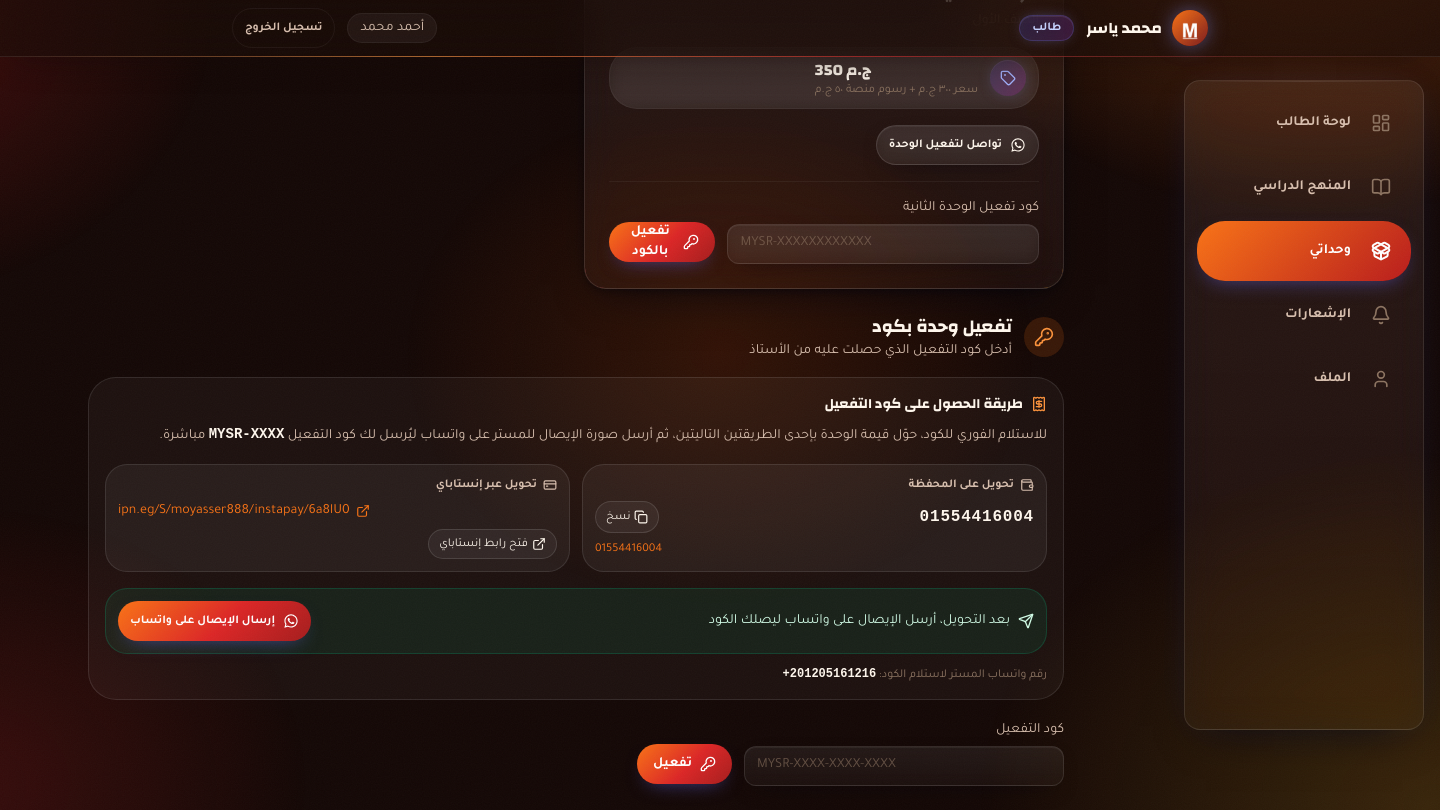
UnitsPage › rejects redeeming a code for a draft unit
(page scrolled)
Type "MYSR-ABCD-EFGH-JKLM" into the field labelled "كود التفعيل".
click(904, 766); type("MYSR-ABCD-EFGH-JKLM")  # box top-left (744, 746), bottom-right (1064, 786)
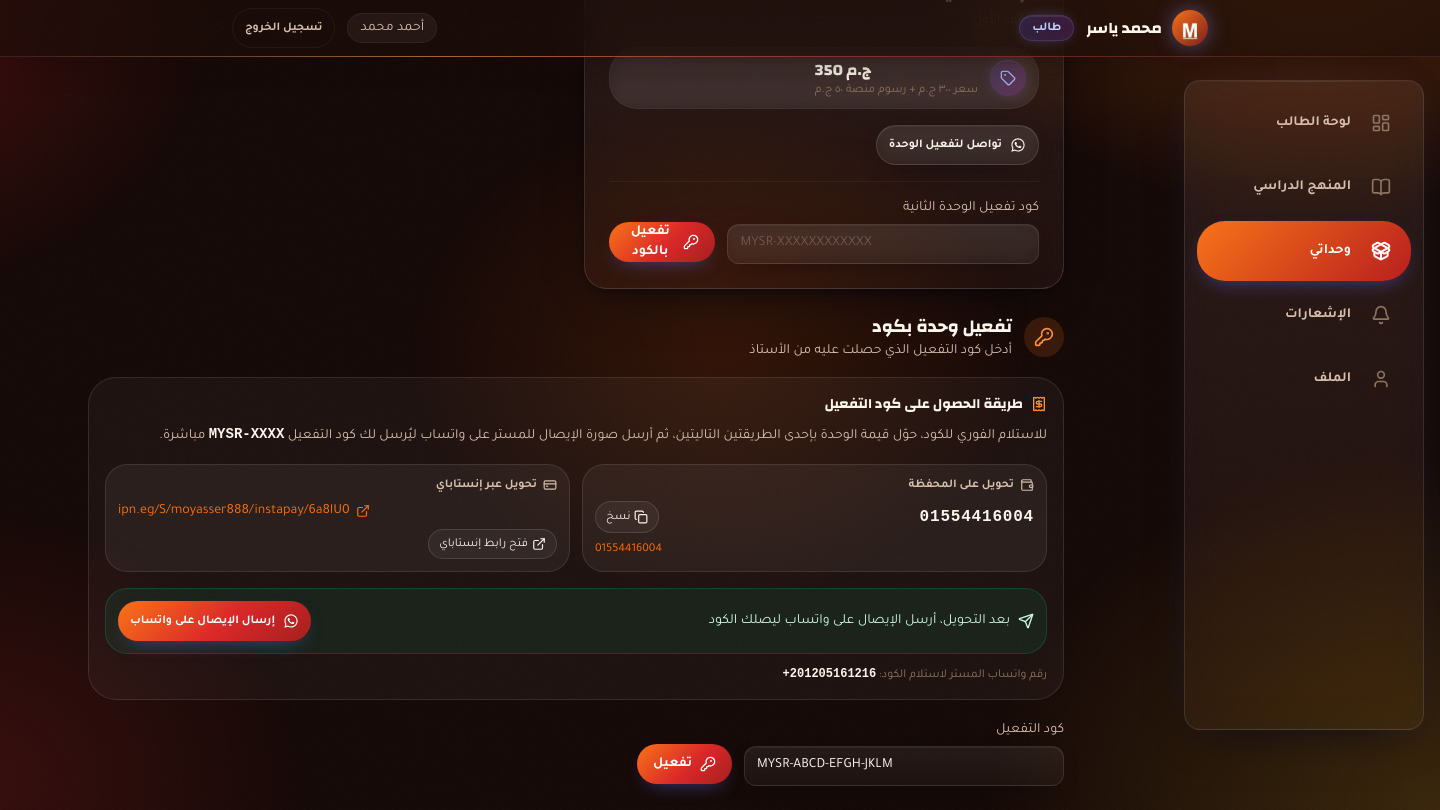
Click the button "تفعيل".
click(684, 764)  # box top-left (637, 744), bottom-right (732, 784)
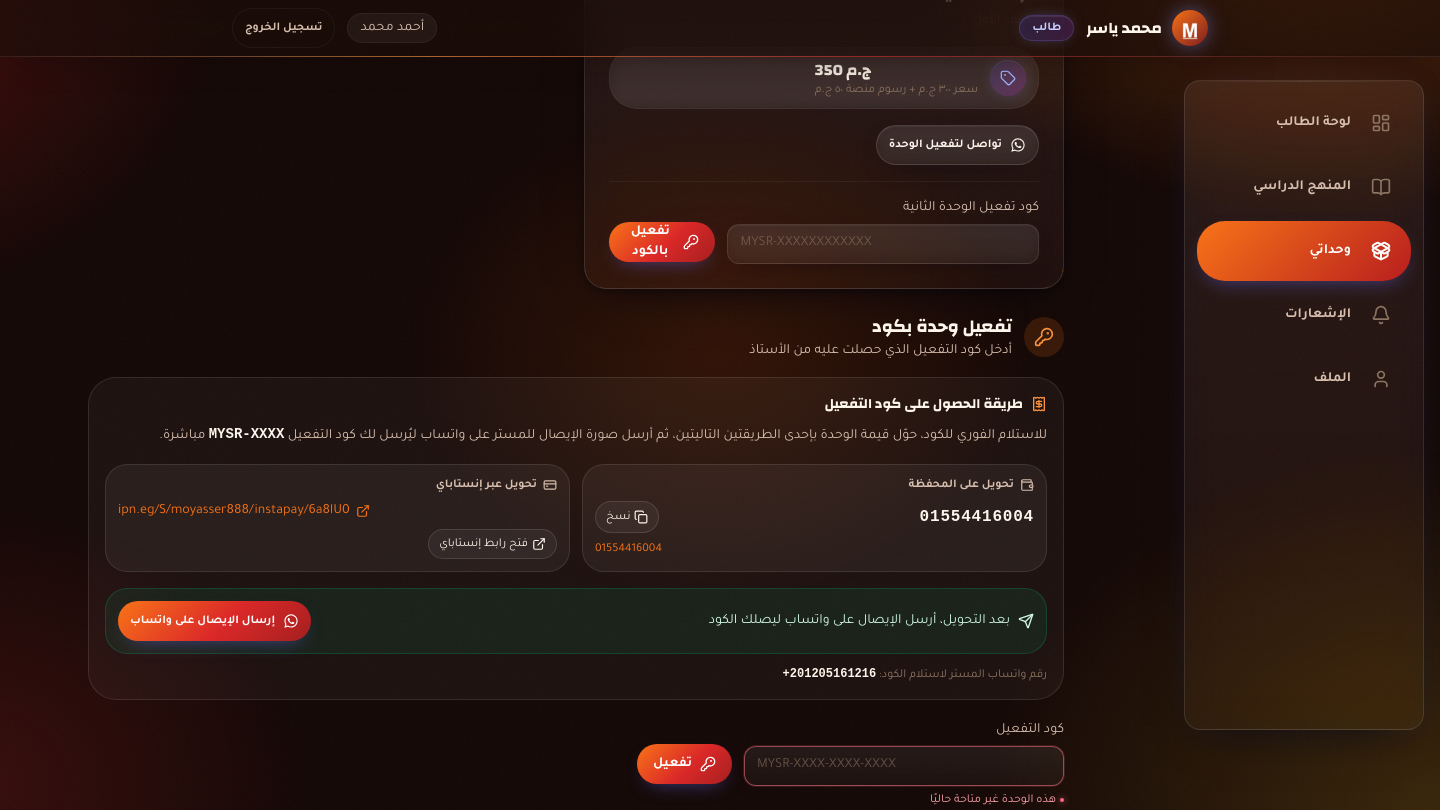
Now the text "هذه الوحدة غير متاحة حاليًا" is shown, box top-left (930, 794), bottom-right (1064, 806)
